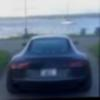License_Plate: (40, 69, 57, 77)
